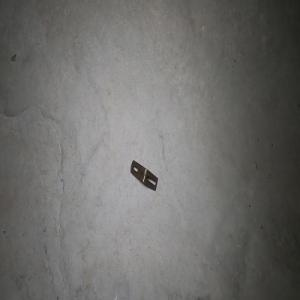MetalPart: (129, 159, 158, 192)
